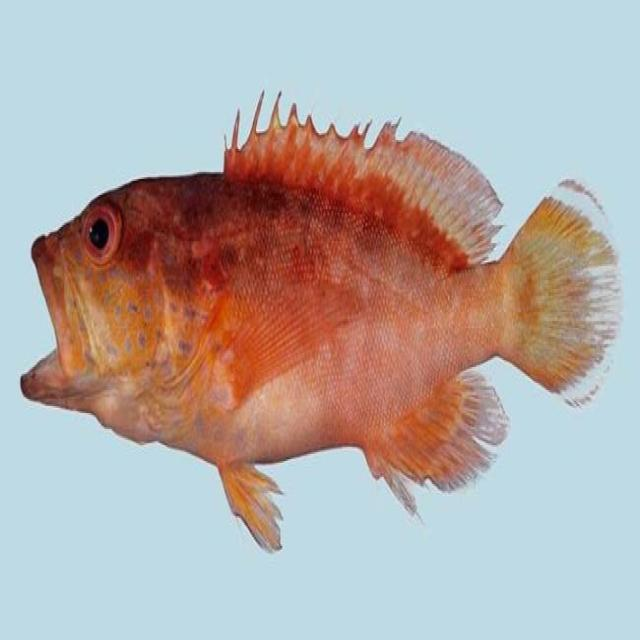ikan: (19, 85, 622, 553)
